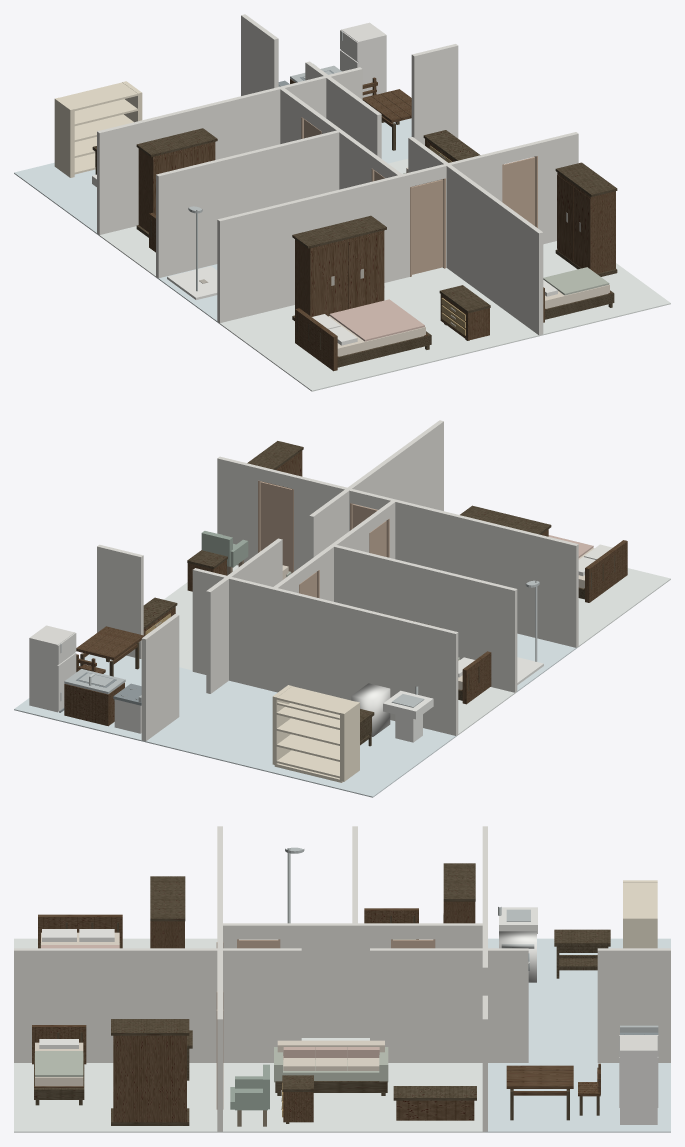
3 renders of one model, top to bottom at view 1: azimuth 30°, elevation 25°; view 2: azimuth 150°, elevation 25°; view 3: azimuth 270°, elevation 25°, orthographic. The views are drawn at different scales.
Parts seen in each view (by area): view 1: H35_WALL_08, H35_WALL_12, H35_FLOOR_03_QUARTO_CASAL, H35_WALL_04, H35_WALL_13, H35_WALL_02, H35_FLOOR_00_QUARTO_03_/_ESCRITORIO, H35_DOOR_01_LEAF, H35_WALL_05, H35_FLOOR_07_LAVANDERIA_/_BOTAS, H35_WALL_00, H35_WALL_06 (+35 smaller); view 2: H35_WALL_13, H35_WALL_08, H35_WALL_12, H35_FLOOR_07_LAVANDERIA_/_BOTAS, H35_WALL_04, H35_WALL_06, H35_WALL_05, H35_WALL_02, H35_WALL_00, H35_FLOOR_02_COZINHA_/_COPA, H35_FLOOR_03_QUARTO_CASAL, H35_FURN_07_fridge__05__gabinete (+27 smaller); view 3: H35_WALL_04, H35_WALL_05, H35_FLOOR_01_SALA_/_ENTRADA, H35_WALL_10, H35_FLOOR_02_COZINHA_/_COPA, H35_FLOOR_00_QUARTO_03_/_ESCRITORIO, H35_FLOOR_07_LAVANDERIA_/_BOTAS, H35_WALL_06, H35_FURN_01_wardrobe__06__corpo, H35_FURN_07_fridge__05__gabinete, H35_FURN_04_tv_rack__07__corpo, H35_FURN_13_wardrobe__00__topo (+33 smaller).
Boxes of the visible parts, x1,y1,x2,y2 form: H35_WALL_08: (217, 173, 410, 322); H35_WALL_12: (156, 130, 339, 278); H35_FLOOR_03_QUARTO_CASAL: (218, 267, 540, 391); H35_WALL_04: (408, 137, 543, 335); H35_WALL_13: (97, 76, 326, 234); H35_WALL_02: (411, 44, 458, 145); H35_FLOOR_00_QUARTO_03_/_ESCRITORIO: (541, 241, 670, 335); H35_DOOR_01_LEAF: (412, 179, 443, 274); H35_WALL_05: (305, 61, 381, 158); H35_FLOOR_07_LAVANDERIA_/_BOTAS: (14, 162, 98, 234); H35_WALL_00: (535, 132, 578, 244); H35_WALL_06: (241, 14, 278, 95); H35_WALL_13: (229, 577, 458, 735); H35_WALL_08: (385, 497, 578, 647); H35_WALL_12: (334, 545, 517, 692); H35_FLOOR_07_LAVANDERIA_/_BOTAS: (144, 680, 457, 797); H35_WALL_04: (309, 420, 443, 560); H35_WALL_06: (141, 614, 179, 741); H35_WALL_05: (206, 538, 282, 693); H35_WALL_02: (97, 544, 143, 658); H35_WALL_00: (217, 456, 260, 565); H35_FLOOR_02_COZINHA_/_COPA: (14, 654, 207, 741); H35_FLOOR_03_QUARTO_CASAL: (577, 568, 670, 647); H35_FURN_07_fridge__05__gabinete: (29, 625, 74, 712); H35_WALL_04: (14, 948, 301, 1062); H35_WALL_05: (370, 948, 528, 1062); H35_FLOOR_01_SALA_/_ENTRADA: (220, 1063, 485, 1132); H35_WALL_10: (279, 923, 391, 1037); H35_FLOOR_02_COZINHA_/_COPA: (485, 1061, 670, 1132); H35_FLOOR_00_QUARTO_03_/_ESCRITORIO: (14, 1063, 219, 1132); H35_FLOOR_07_LAVANDERIA_/_BOTAS: (488, 938, 670, 1061); H35_WALL_06: (597, 948, 670, 1062); H35_FURN_01_wardrobe__06__corpo: (113, 1035, 186, 1122); H35_FURN_07_fridge__05__gabinete: (620, 1035, 657, 1124); H35_FURN_04_tv_rack__07__corpo: (396, 1100, 474, 1120); H35_FURN_13_wardrobe__00__topo: (150, 876, 185, 921).
Size of the model in its own units: 8.95 by 2.46 by 12.88.
Materials: 22 (3 with a texture image).
